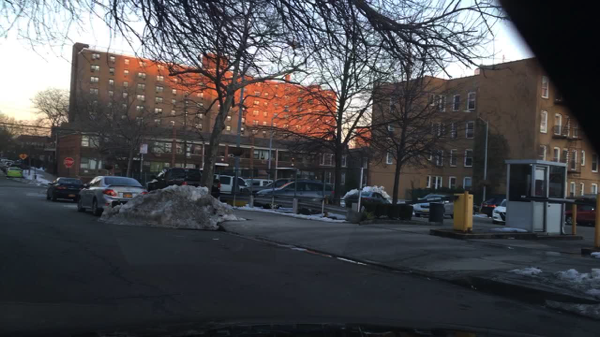car: (77, 176, 148, 217), (148, 165, 220, 200), (239, 177, 335, 192), (413, 194, 455, 219), (345, 191, 404, 208), (47, 177, 83, 203), (566, 203, 598, 226), (216, 175, 252, 193), (480, 197, 507, 217), (491, 198, 510, 226), (301, 178, 323, 196), (6, 167, 22, 180), (244, 179, 273, 186), (470, 204, 476, 214), (5, 162, 13, 168)
traffic sign: (63, 156, 75, 170), (139, 142, 148, 154), (18, 152, 29, 161)
